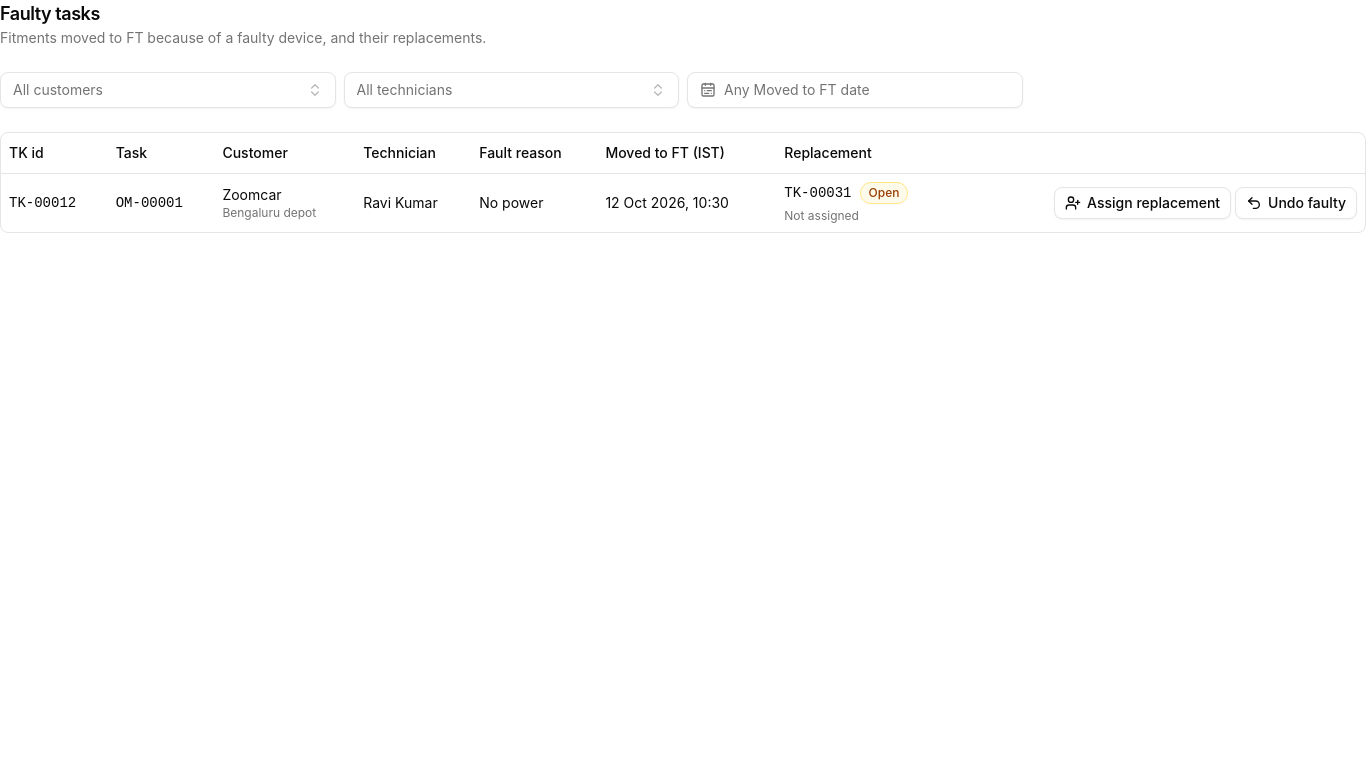
Test: Faulty view row actions (CR-11) › Assign replacement posts to the replacement task and refreshes the list
Step 1. Click the button with aria-label "Assign replacement TK-00031" → (1143, 202), box [1054,186,1231,218]
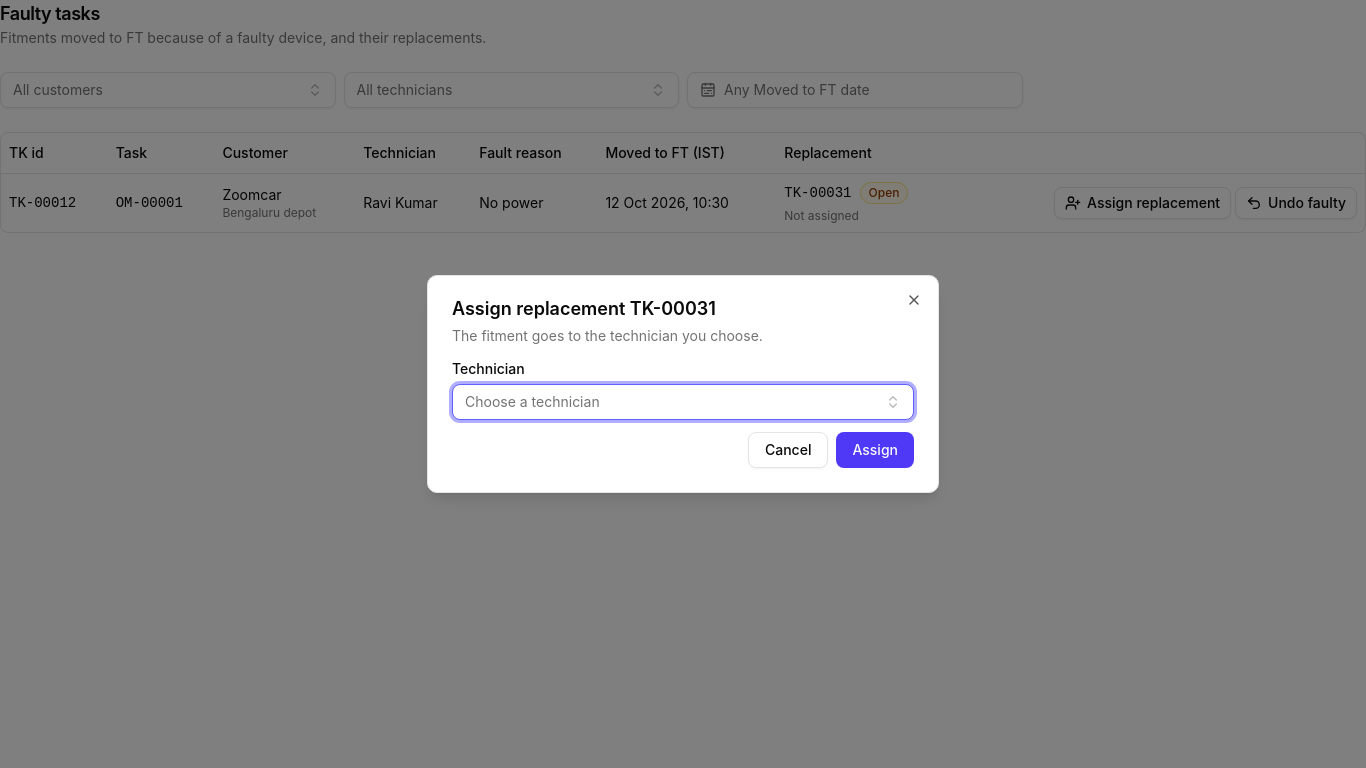
Expected: the dialog shows "Assign replacement TK-00031", [452,298,716,319]
Step 2. Click the dropdown labelled "technician" → (532, 402), box [452,384,914,420]
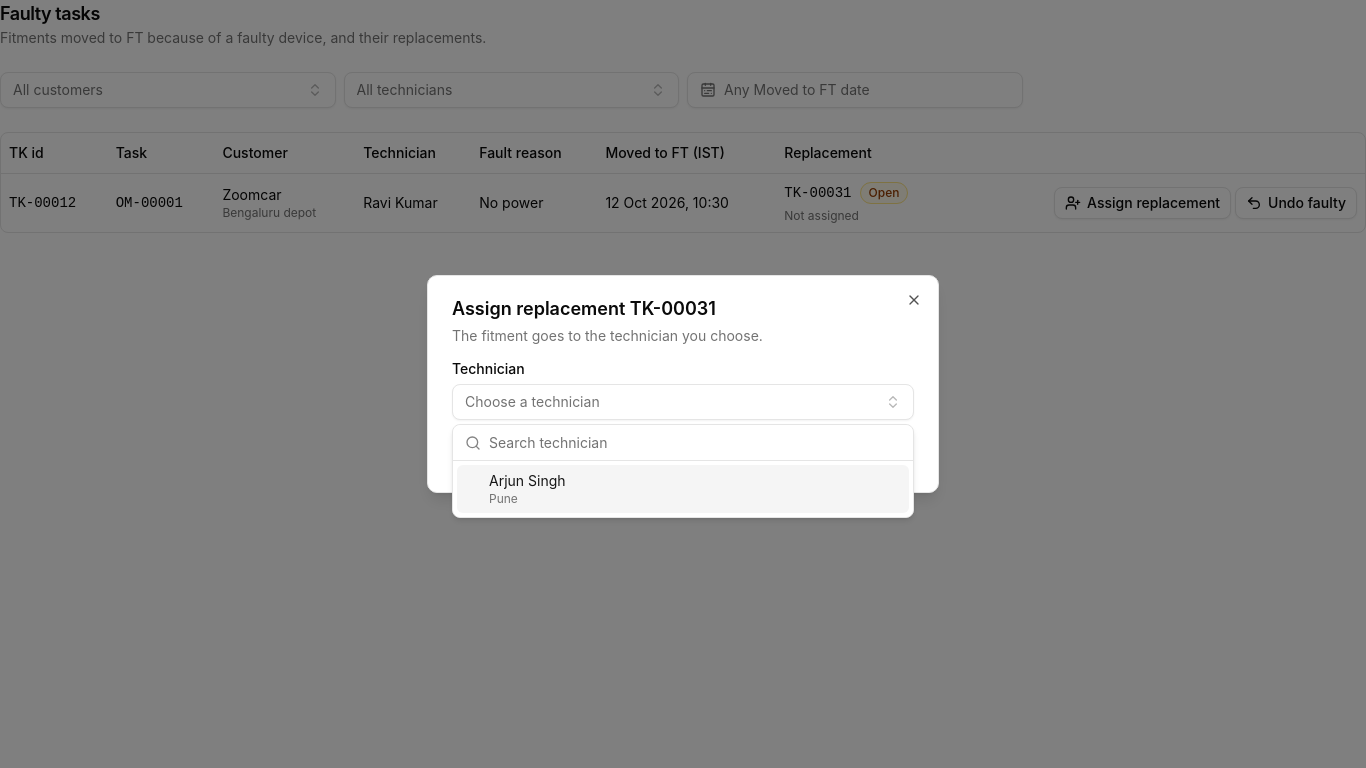
Step 3. Click the option "Arjun Singh Pune" → (527, 480), box [457,465,909,513]
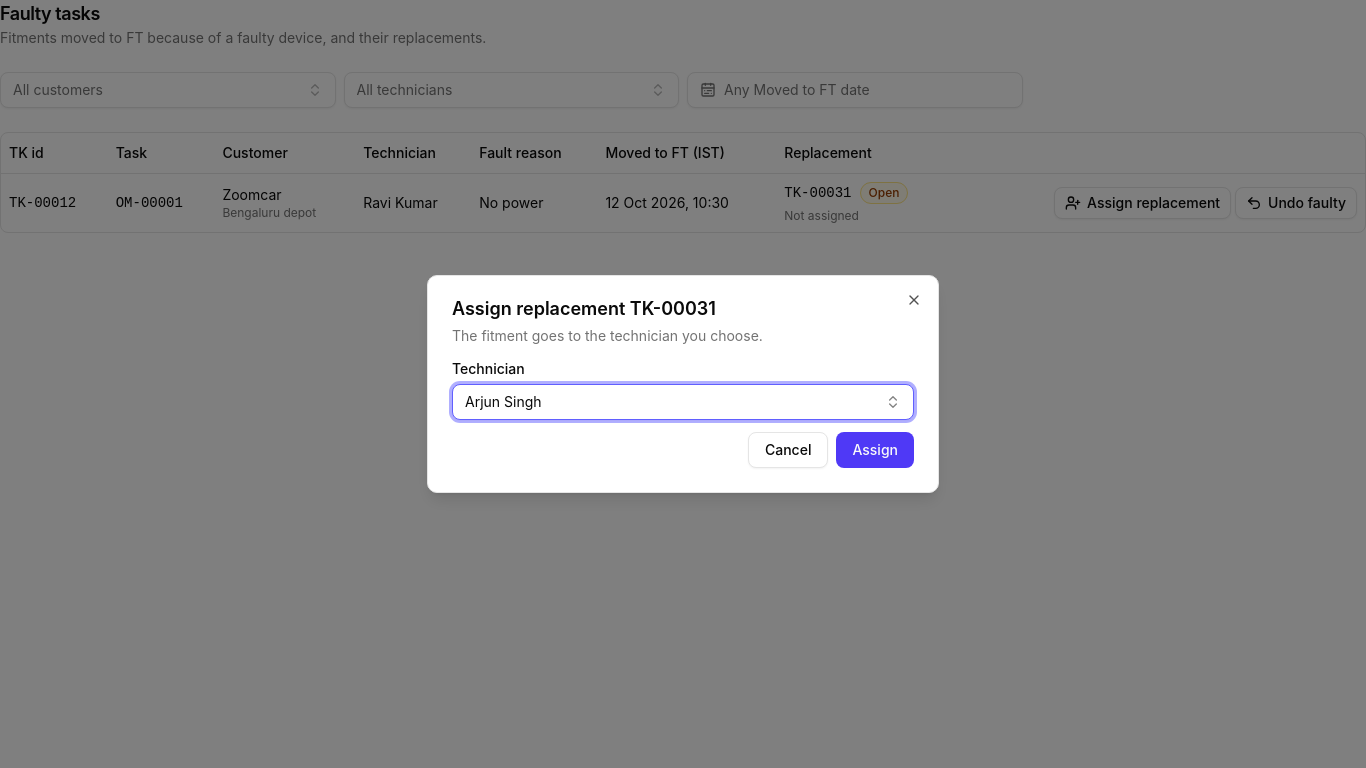
Step 4. Click the button "Assign" → (875, 450), box [836,432,914,468]
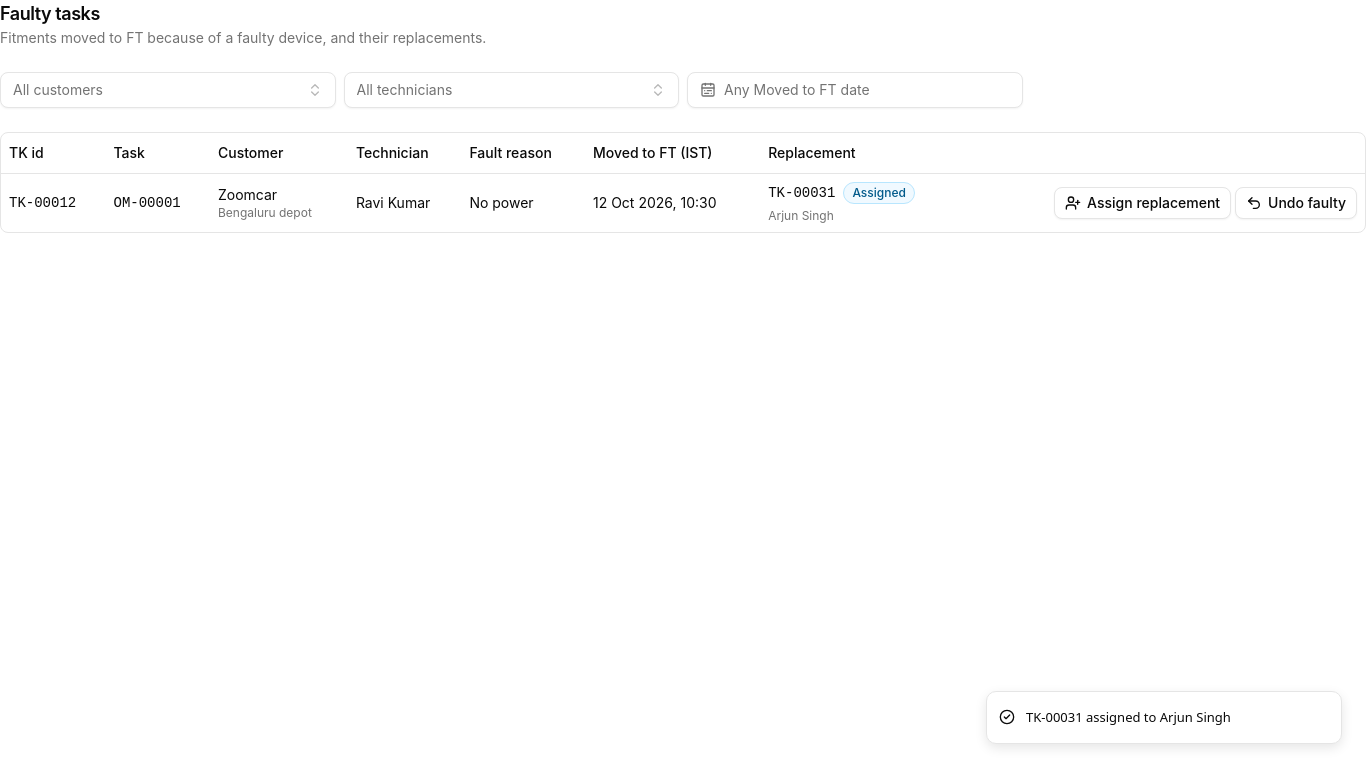
Expected: the dialog is gone
Expected: the element with test id "replacement" shows "Arjun Singh", [768,208,834,222]
